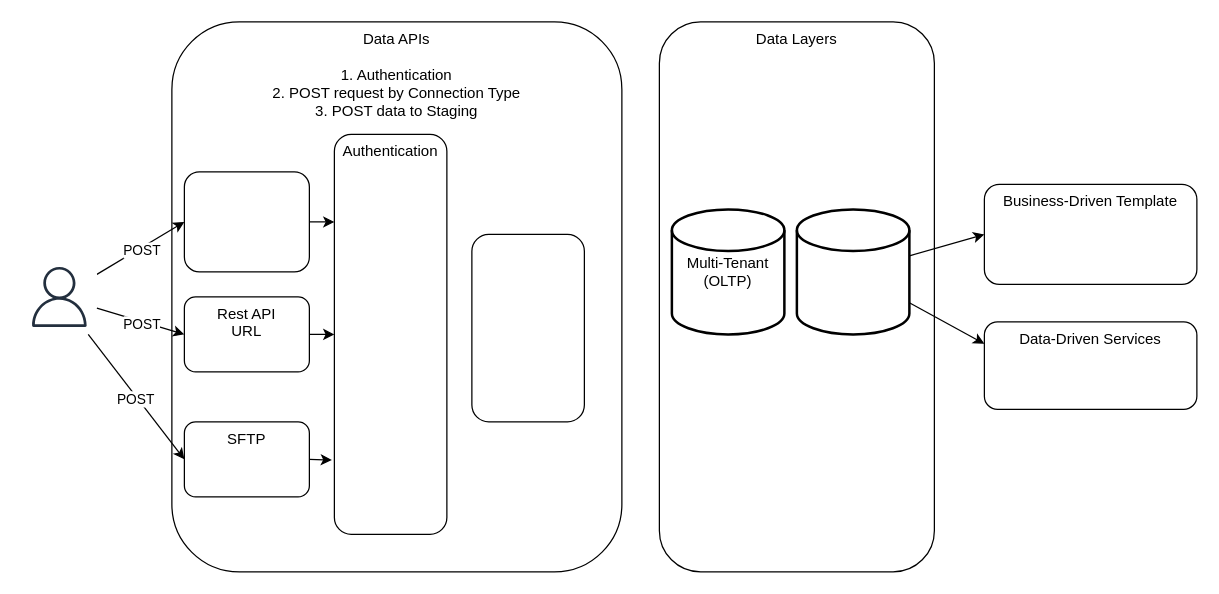
The diagram is 1219 pixels wide and 594 high, and some of its shapes have lost their labels. The centre of each missing label's shape, as x and y in pixels:
"JDBC Connetion_String" belongs at (246,221).
"Mapping" belongs at (527,327).
"OLAP" belongs at (852,271).
"User" belongs at (59,296).
